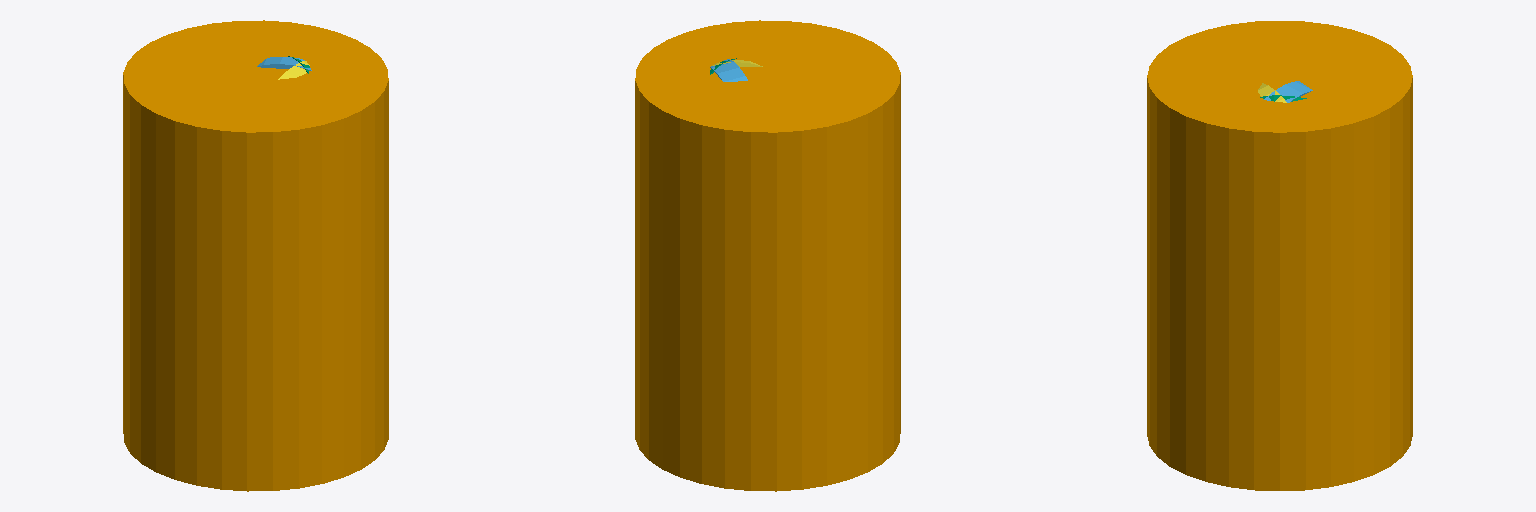
robot.urdf — pepe:
<?xml version="1.0"?><robot name="pepe">
	<link name="0">
		<visual>
			<geometry>
				<cylinder length="2.9780468539074367" radius="0.9999"/>
			</geometry>
		</visual>
		<collision>
			<geometry>
				<cylinder length="2.9780468539074367" radius="0.9999"/>
			</geometry>
		</collision>
		<inertial>
			<mass value="9.353939049816244"/>
			<inertia ixx="0.03" iyy="0.03" izz="0.03" ixy="0" ixz="0" iyx="0"/>
		</inertial>
	</link>
	<link name="11">
		<visual>
			<geometry>
				<cylinder length="0.1812473816045389" radius="0.6233827243262248"/>
			</geometry>
		</visual>
		<collision>
			<geometry>
				<cylinder length="0.1812473816045389" radius="0.6233827243262248"/>
			</geometry>
		</collision>
		<inertial>
			<mass value="0.2212743833511827"/>
			<inertia ixx="0.03" iyy="0.03" izz="0.03" ixy="0" ixz="0" iyx="0"/>
		</inertial>
	</link>
	<link name="12">
		<visual>
			<geometry>
				<cylinder length="0.1812473816045389" radius="0.6233827243262248"/>
			</geometry>
		</visual>
		<collision>
			<geometry>
				<cylinder length="0.1812473816045389" radius="0.6233827243262248"/>
			</geometry>
		</collision>
		<inertial>
			<mass value="0.2212743833511827"/>
			<inertia ixx="0.03" iyy="0.03" izz="0.03" ixy="0" ixz="0" iyx="0"/>
		</inertial>
	</link>
	<link name="13">
		<visual>
			<geometry>
				<cylinder length="0.1812473816045389" radius="0.6233827243262248"/>
			</geometry>
		</visual>
		<collision>
			<geometry>
				<cylinder length="0.1812473816045389" radius="0.6233827243262248"/>
			</geometry>
		</collision>
		<inertial>
			<mass value="0.2212743833511827"/>
			<inertia ixx="0.03" iyy="0.03" izz="0.03" ixy="0" ixz="0" iyx="0"/>
		</inertial>
	</link>
	<joint name="11_to_0" type="revolute">
		<parent link="0"/>
		<child link="11"/>
		<axis xyz="1 0 0"/>
		<limit effort="1" upper="-3.1415" lower="3.1415" velocity="1"/>
		<origin rpy="8.201328457061395 1.2065562547769269 2.7859301808251993" xyz="0.25738136108580756 0.028746013612229948 0.8983688972084422"/>
	</joint>
	<joint name="12_to_0" type="revolute">
		<parent link="0"/>
		<child link="12"/>
		<axis xyz="1 0 0"/>
		<limit effort="1" upper="-3.1415" lower="3.1415" velocity="1"/>
		<origin rpy="12.301992685592094 1.2065562547769269 2.7859301808251993" xyz="0.25738136108580756 0.028746013612229948 0.8983688972084422"/>
	</joint>
	<joint name="13_to_0" type="revolute">
		<parent link="0"/>
		<child link="13"/>
		<axis xyz="1 0 0"/>
		<limit effort="1" upper="-3.1415" lower="3.1415" velocity="1"/>
		<origin rpy="16.40265691412279 1.2065562547769269 2.7859301808251993" xyz="0.25738136108580756 0.028746013612229948 0.8983688972084422"/>
	</joint>
</robot>

--- Facts derived from the render (not from the file) ---
The picture shows the robot from 3 angles, left to right: view 1: azimuth 30°, elevation 25°; view 2: azimuth 150°, elevation 25°; view 3: azimuth 270°, elevation 25°; orthographic projection.
Robot: pepe — 4 links, 3 joints (3 revolute); root link 0; default pose: every joint at zero.
Links seen in each view (by area): view 1: 0; view 2: 0; view 3: 0.
Link boxes in pixels (x1,y1,x2,y2): 0: (123, 20, 388, 491); 0: (635, 20, 900, 491); 0: (1147, 21, 1412, 490).
Bounding box of the posed robot: 2 × 2 × 3.02 m (x, y, z).
Geometry: primitives only (box / cylinder / sphere), no mesh files.
